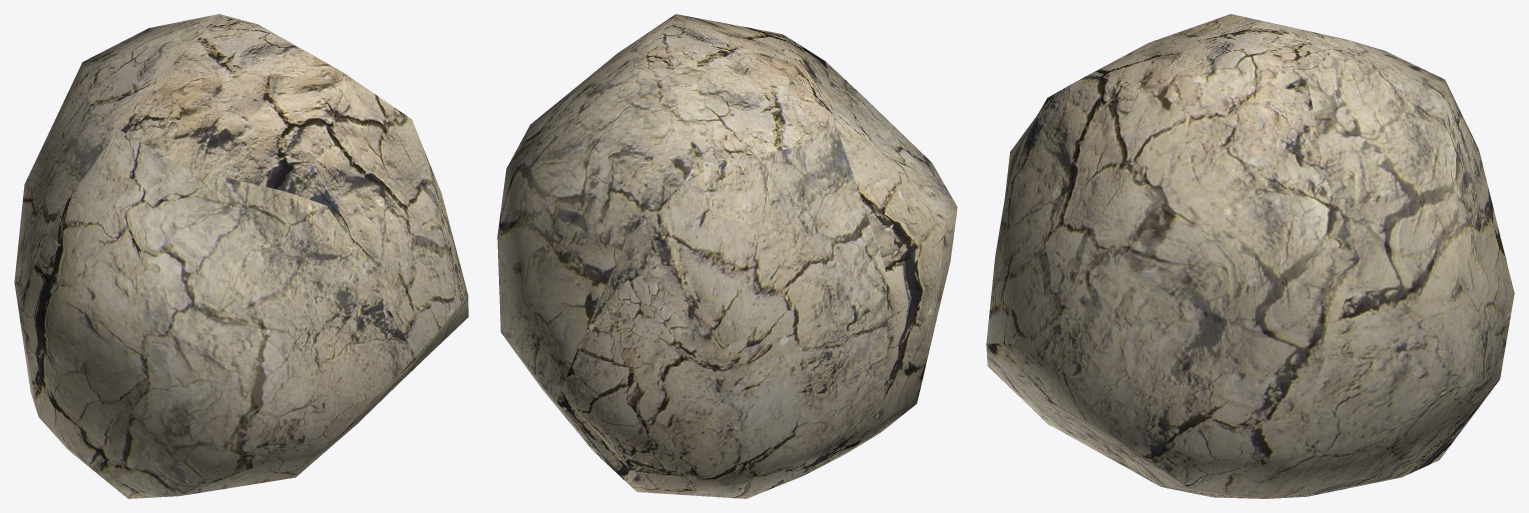
Rendered from stone1.obj.
3 views of the same model, side by side, from view 1: azimuth 30°, elevation 25°; view 2: azimuth 150°, elevation 25°; view 3: azimuth 270°, elevation 25° (orthographic). The views are drawn at different scales.
Visible parts, largest first — view 1: rock_01; view 2: rock_01; view 3: rock_01.
Part boxes in pixels (left/top/right/bottom): rock_01: left=14, top=14, right=468, bottom=498; rock_01: left=497, top=14, right=957, bottom=498; rock_01: left=986, top=14, right=1514, bottom=498.
Bounding box in the file's own units: 4.22 × 4.25 × 4.49.
